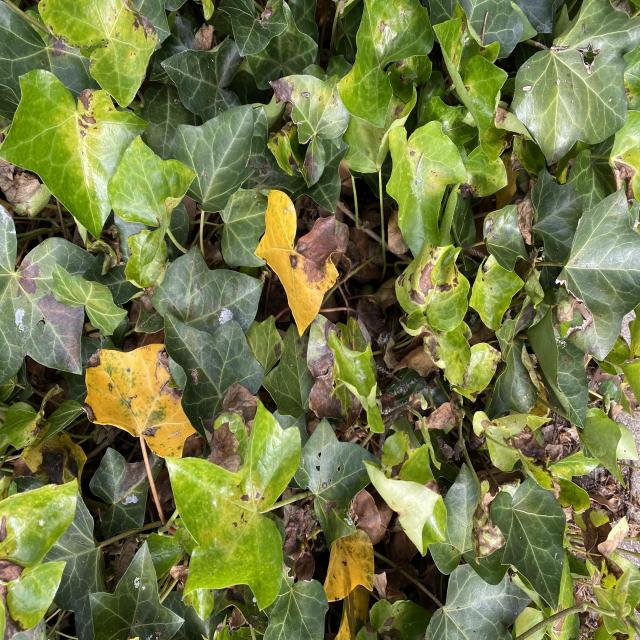blight: (210, 393, 260, 482), (290, 208, 335, 284)
